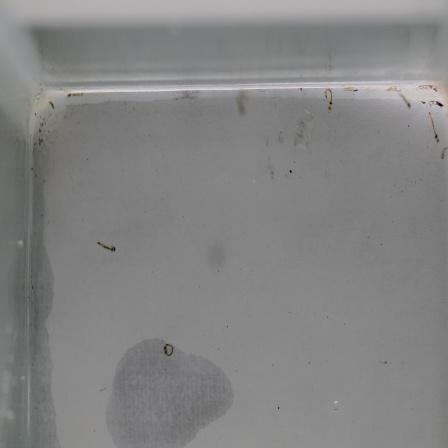Jentik-Nyamuk: (93, 237, 123, 259), (161, 339, 179, 363)
